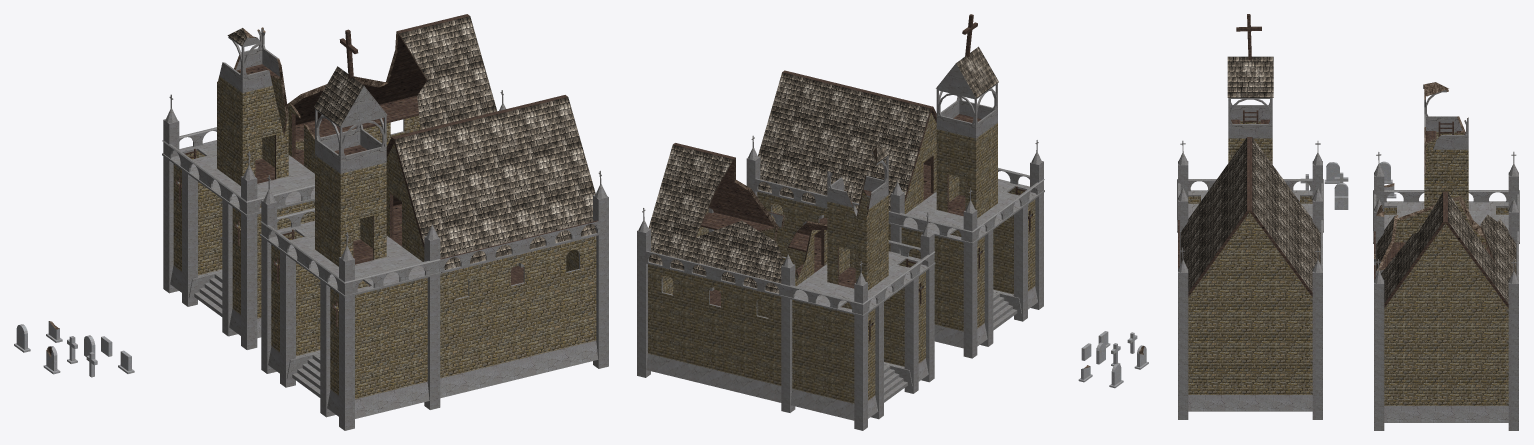
Rendered from low-poly_church.glb.
3 views of the same model, side by side, from view 1: azimuth 30°, elevation 25°; view 2: azimuth 150°, elevation 25°; view 3: azimuth 270°, elevation 25° (orthographic). The views are drawn at different scales.
Parts seen in each view (by area): view 1: OldChurch1, OldChurch2; view 2: OldChurch2, OldChurch1; view 3: OldChurch1, OldChurch2.
Part boxes in pixels (bbox=[...]): OldChurch1: bbox=[260, 29, 608, 430]; OldChurch2: bbox=[162, 14, 505, 349]; OldChurch2: bbox=[637, 143, 935, 430]; OldChurch1: bbox=[746, 14, 1044, 358]; OldChurch1: bbox=[1177, 14, 1323, 419]; OldChurch2: bbox=[1373, 82, 1519, 430].
Size of the model in its own units: 28.53 by 20.49 by 20.08.
20 materials, 19 textured.
